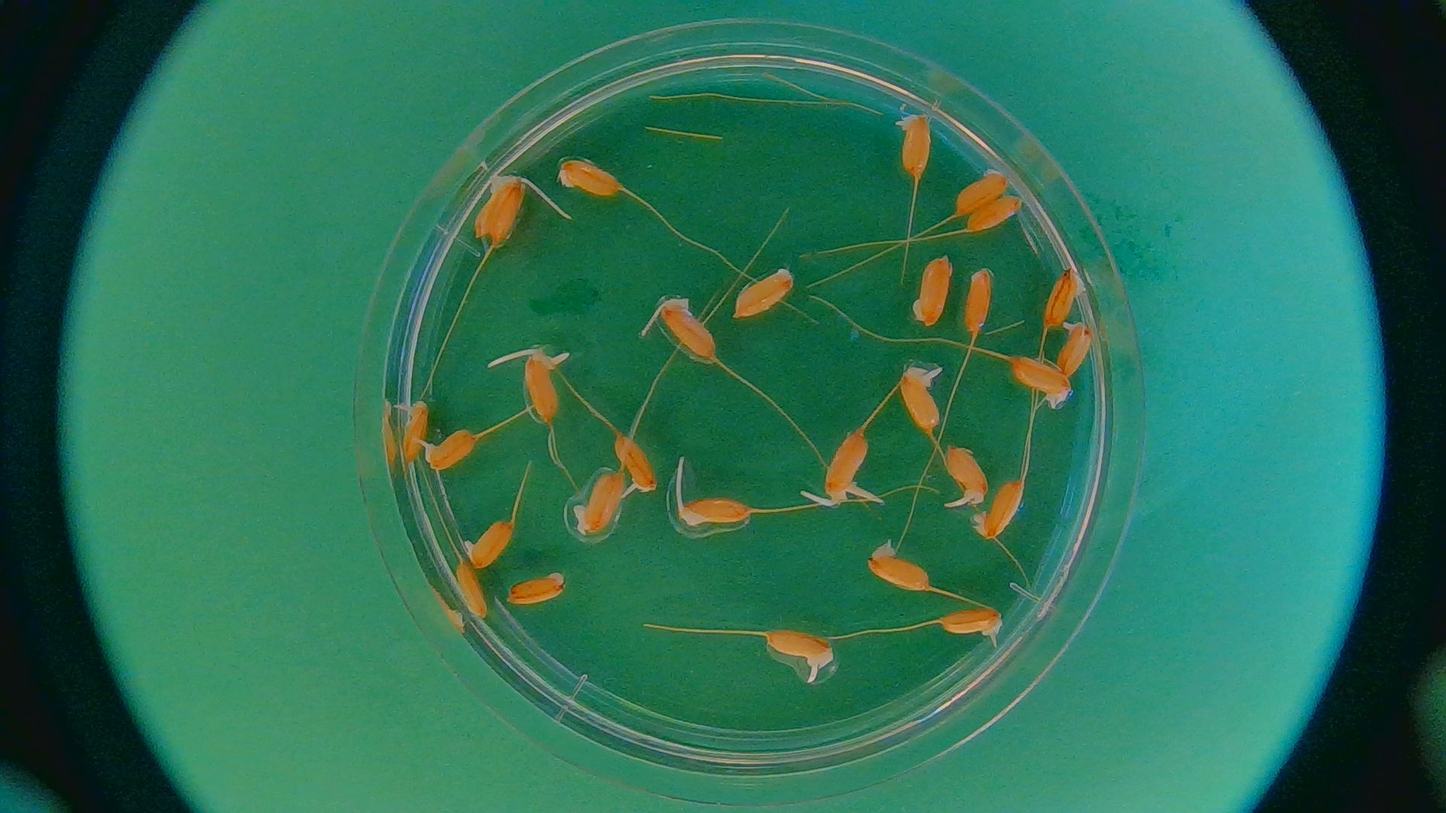no: (866, 540, 932, 593), (572, 472, 622, 540), (571, 473, 624, 534), (973, 480, 1027, 539), (734, 270, 795, 318), (912, 255, 952, 326), (1011, 358, 1070, 406), (1044, 266, 1086, 328), (956, 167, 1010, 215), (465, 519, 514, 569), (557, 159, 621, 194), (898, 113, 933, 177), (966, 195, 1023, 232), (508, 572, 567, 604), (966, 267, 993, 330), (455, 565, 487, 618)
yes: (659, 297, 718, 359), (522, 352, 573, 422), (826, 432, 871, 505), (480, 180, 525, 247), (898, 364, 943, 429), (763, 632, 834, 673), (615, 431, 663, 491), (944, 444, 987, 508), (935, 601, 1005, 638), (1051, 319, 1094, 379), (676, 492, 751, 525), (390, 400, 429, 463), (419, 430, 480, 469)
